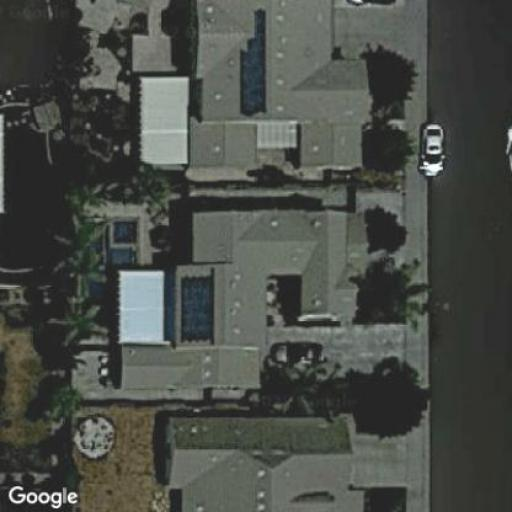solar-panel: (230, 2, 275, 122), (177, 268, 218, 350)
